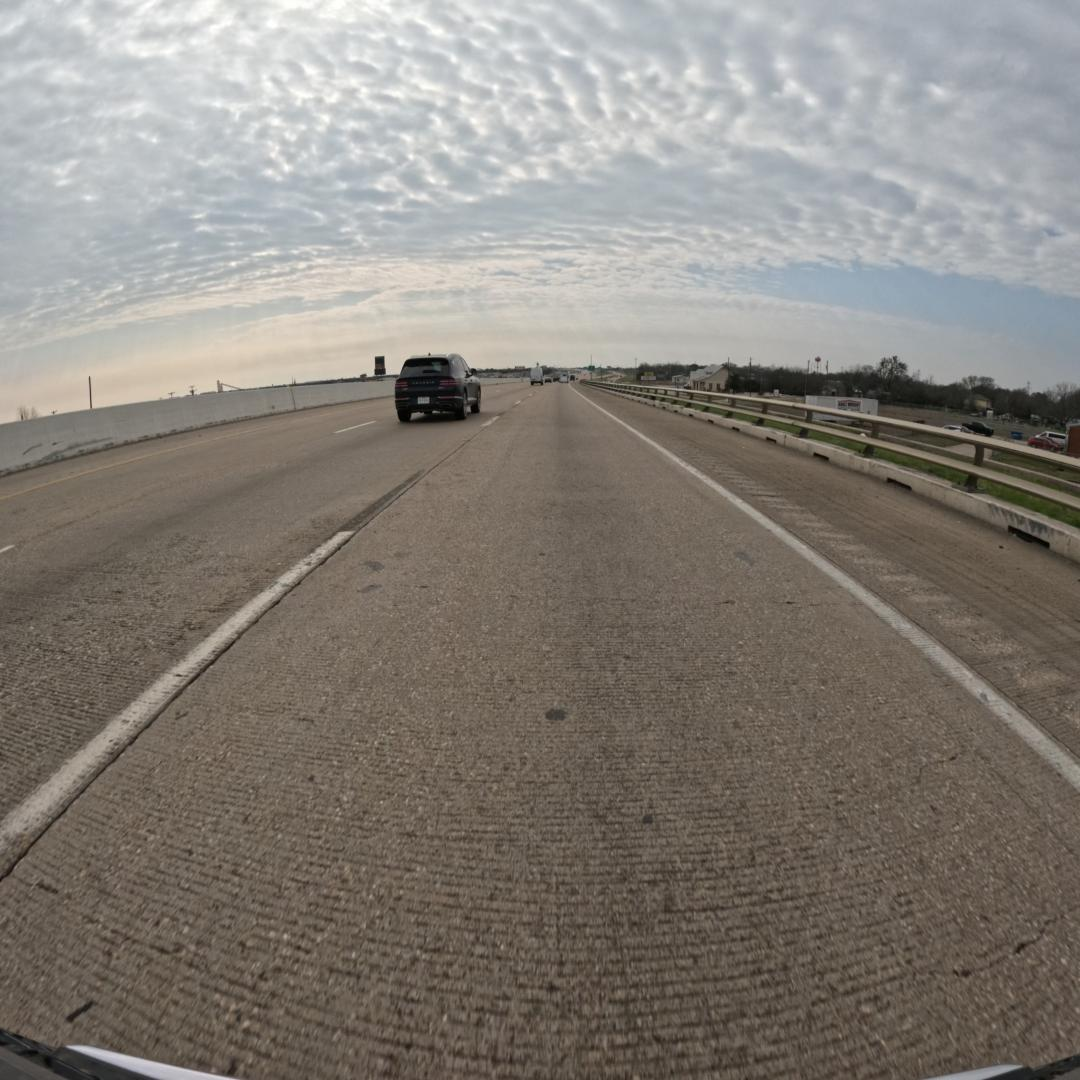lane0: (0, 388, 1080, 1076)
lane1: (0, 413, 491, 877)
